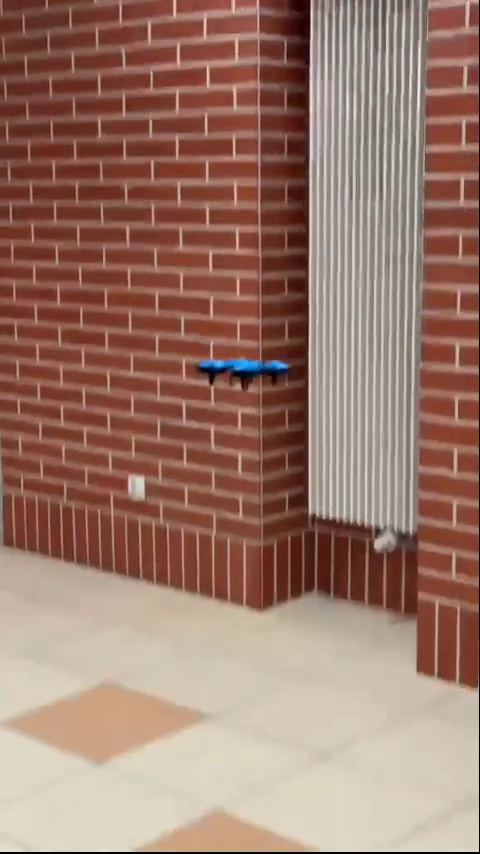drone: (194, 352, 297, 386)
